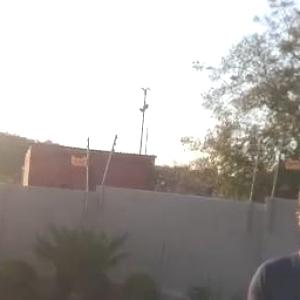follow: (234, 171, 299, 299)
